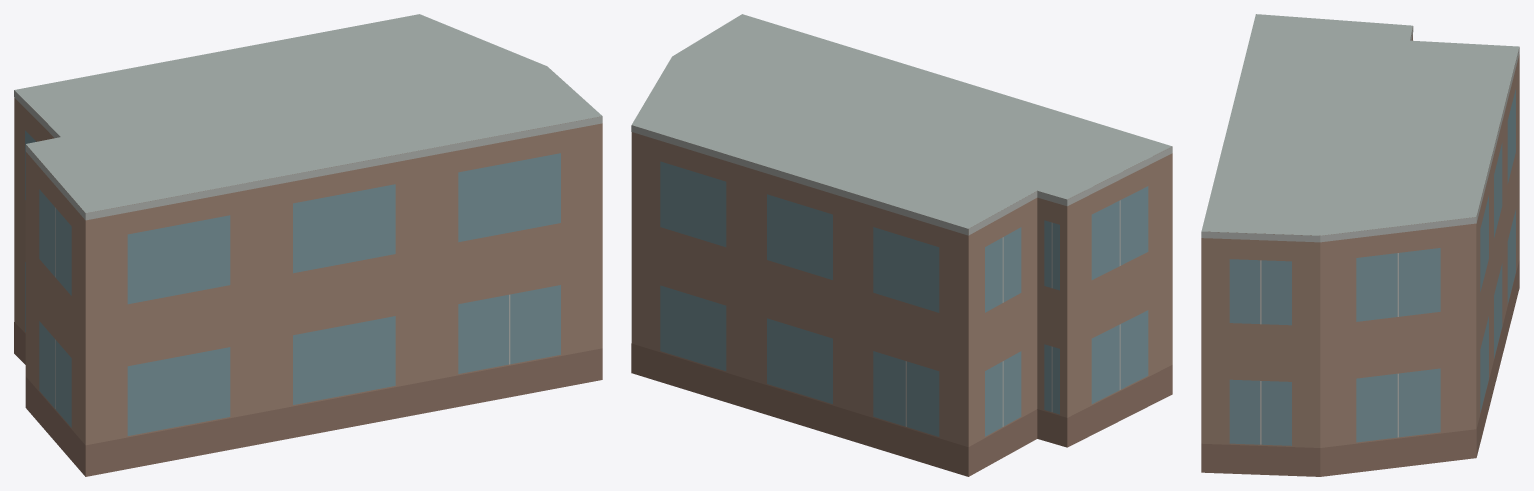
File: survey-upis-32753494.glb
3 views of the same model, side by side, from view 1: azimuth 30°, elevation 25°; view 2: azimuth 150°, elevation 25°; view 3: azimuth 270°, elevation 25° (orthographic). The views are drawn at different scales.
Parts seen in each view (by area): view 1: survey-upis-32753494.tmp; view 2: survey-upis-32753494.tmp; view 3: survey-upis-32753494.tmp.
Boxes of the visible parts, box(x1,y1,x2,y2) form: survey-upis-32753494.tmp: box(14, 14, 602, 476); survey-upis-32753494.tmp: box(631, 14, 1172, 476); survey-upis-32753494.tmp: box(1201, 14, 1519, 476).
Bounding box in the file's own units: 17.56 × 8.9 × 10.65.
